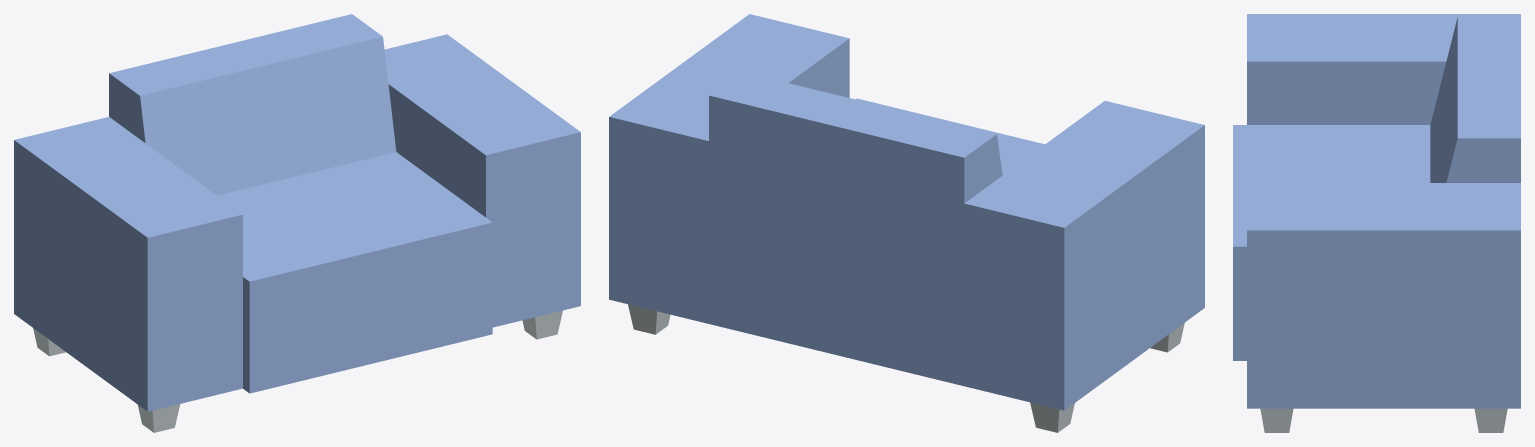
The model's file is loungeDesignChair.glb.
3 renders of one model, left to right at view 1: azimuth 30°, elevation 25°; view 2: azimuth 150°, elevation 25°; view 3: azimuth 270°, elevation 25°, orthographic. The views are drawn at different scales.
Visible parts, largest first — view 1: loungeDesignChair(Clone); view 2: loungeDesignChair(Clone); view 3: loungeDesignChair(Clone).
Boxes of the visible parts, x1,y1,x2,y2 form: loungeDesignChair(Clone): (14,14,580,432); loungeDesignChair(Clone): (609,14,1204,432); loungeDesignChair(Clone): (1233,14,1520,432).
Bounding box in the file's own units: 1.48 × 0.812 × 0.8323.
2 materials, 2 textured.
